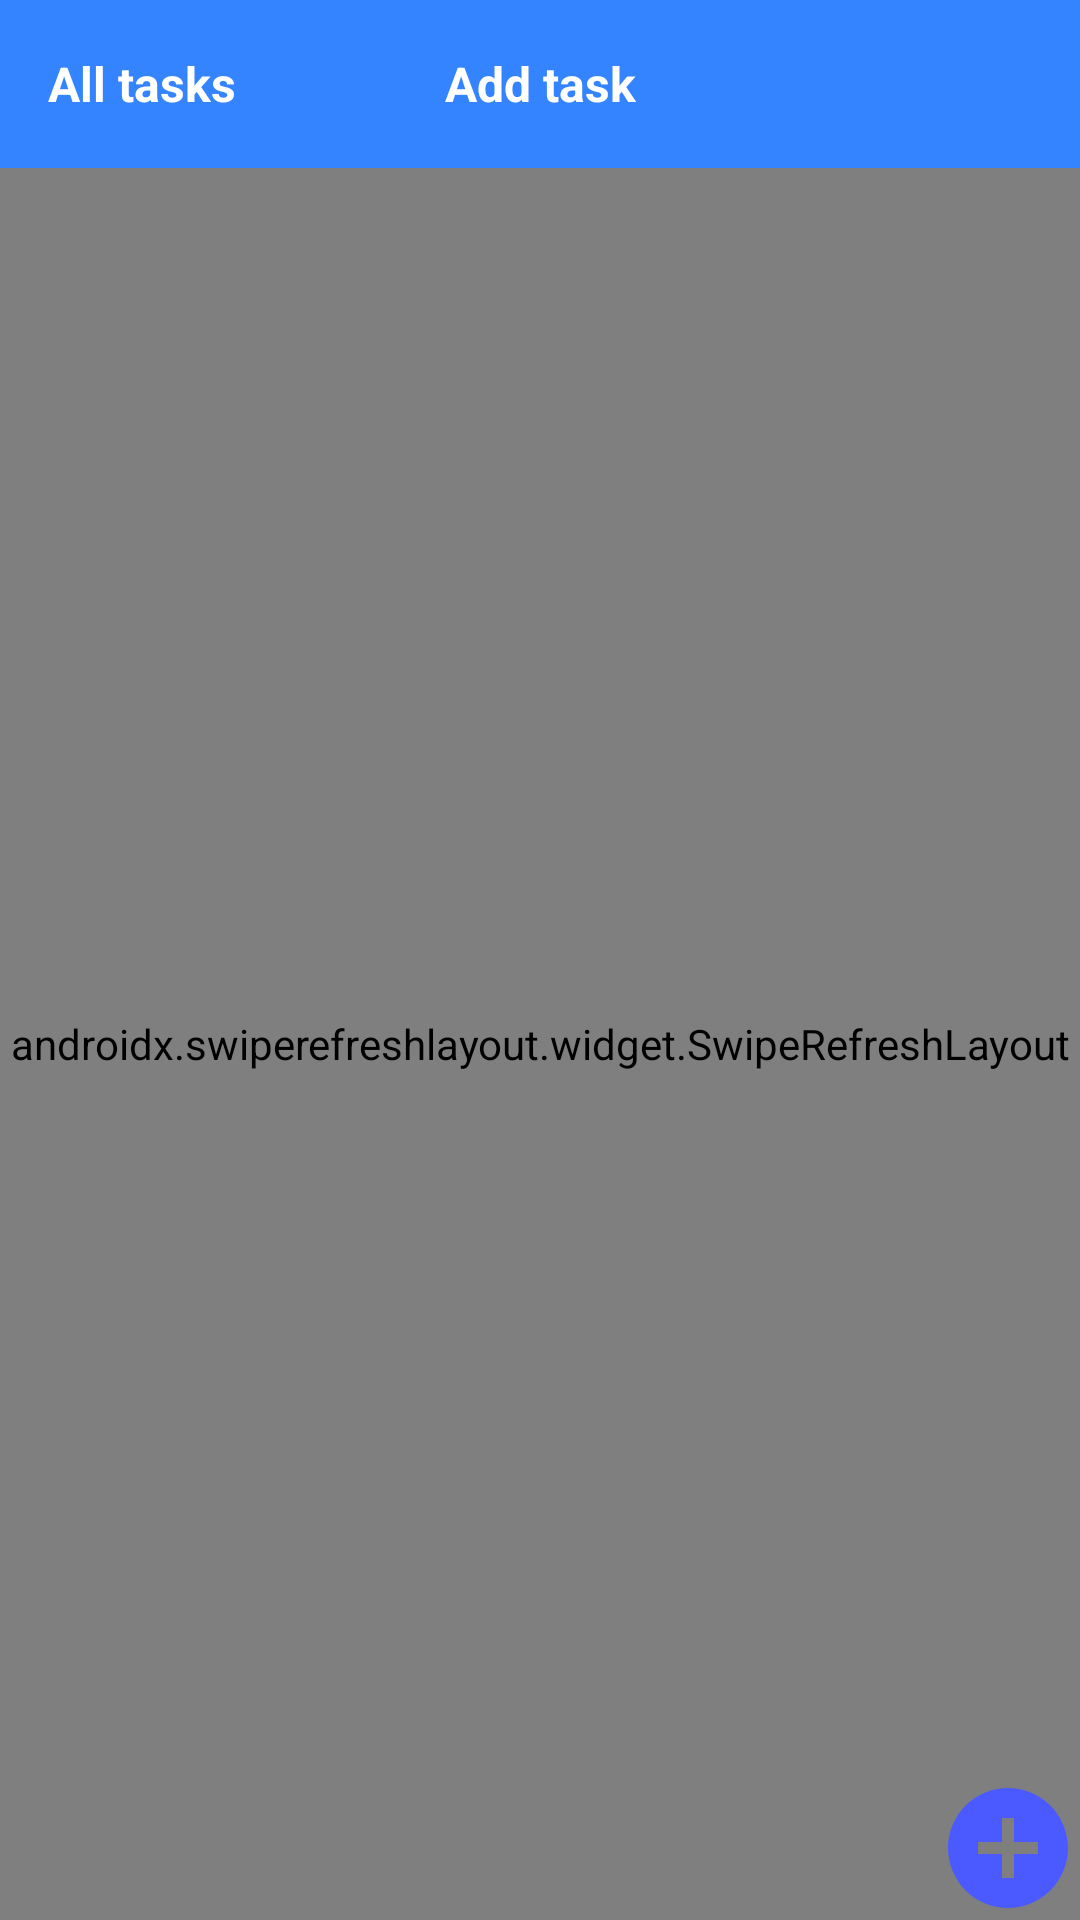

Named icons in this screenshot (1080px x 1920px) and their centers, point (x, y):
add: point (1008, 1848)
